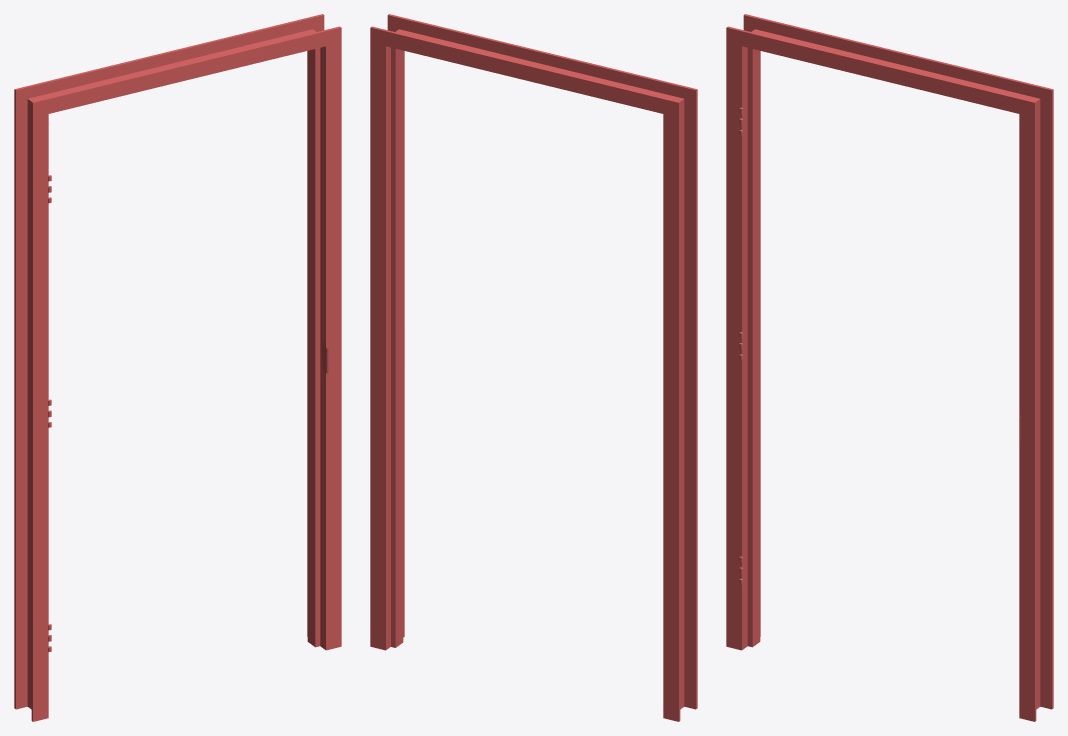
The model's file is marco_puerta.fbx.
3 views of the same model, side by side, from view 1: azimuth 30°, elevation 25°; view 2: azimuth 150°, elevation 25°; view 3: azimuth 330°, elevation 25° (orthographic).
Parts seen in each view (by area): view 1: marco_puerta; view 2: marco_puerta; view 3: marco_puerta.
Part boxes in pixels (x1,y1,x2,y2): marco_puerta: [14, 14, 341, 721]; marco_puerta: [370, 14, 697, 721]; marco_puerta: [726, 14, 1053, 721].
Bounding box in the file's own units: 134 × 257 × 15.21.
